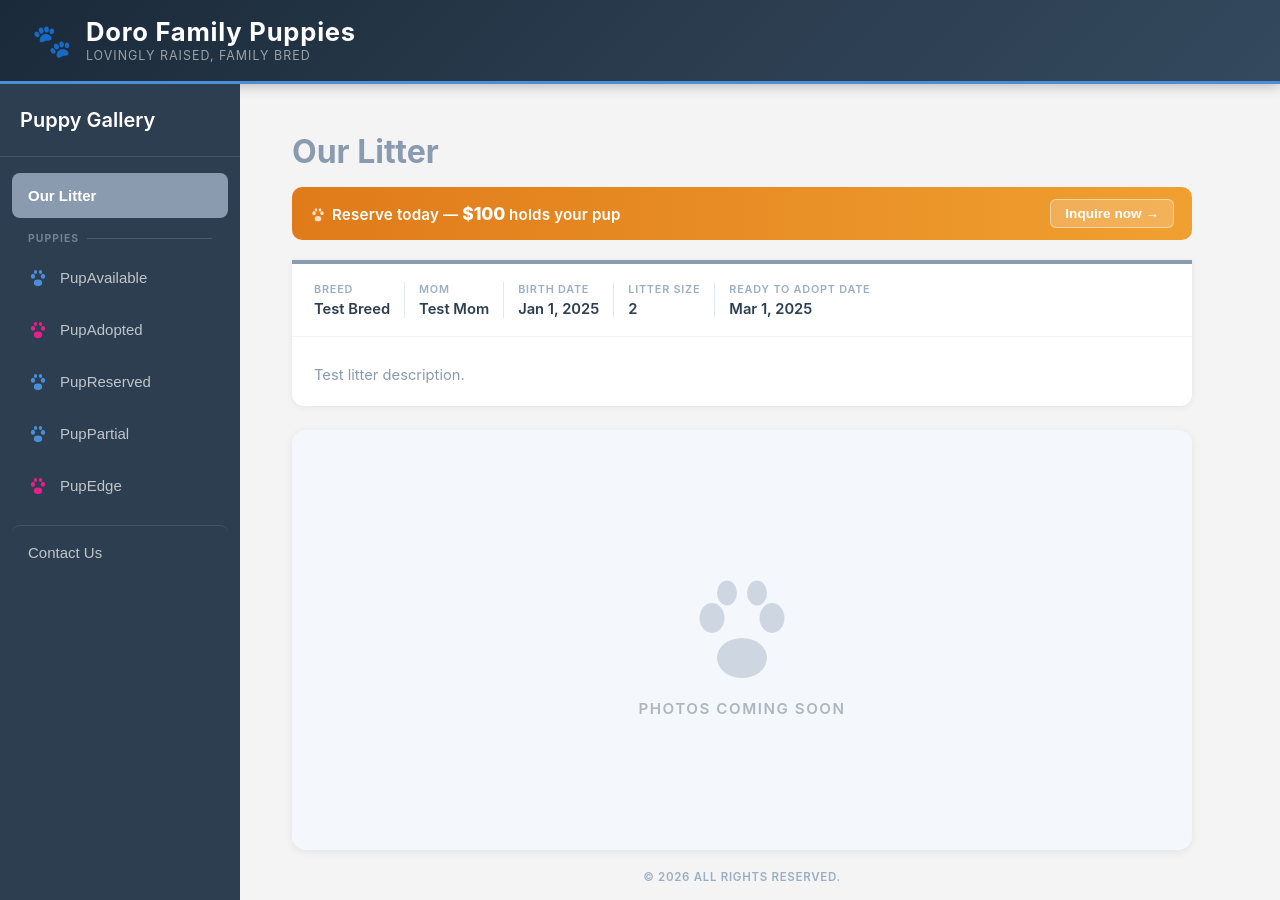
Test: Puppy details › adopted puppy shows Adopted badge
Click the button "PupAdopted" at (120, 329), box [12,305,228,353]
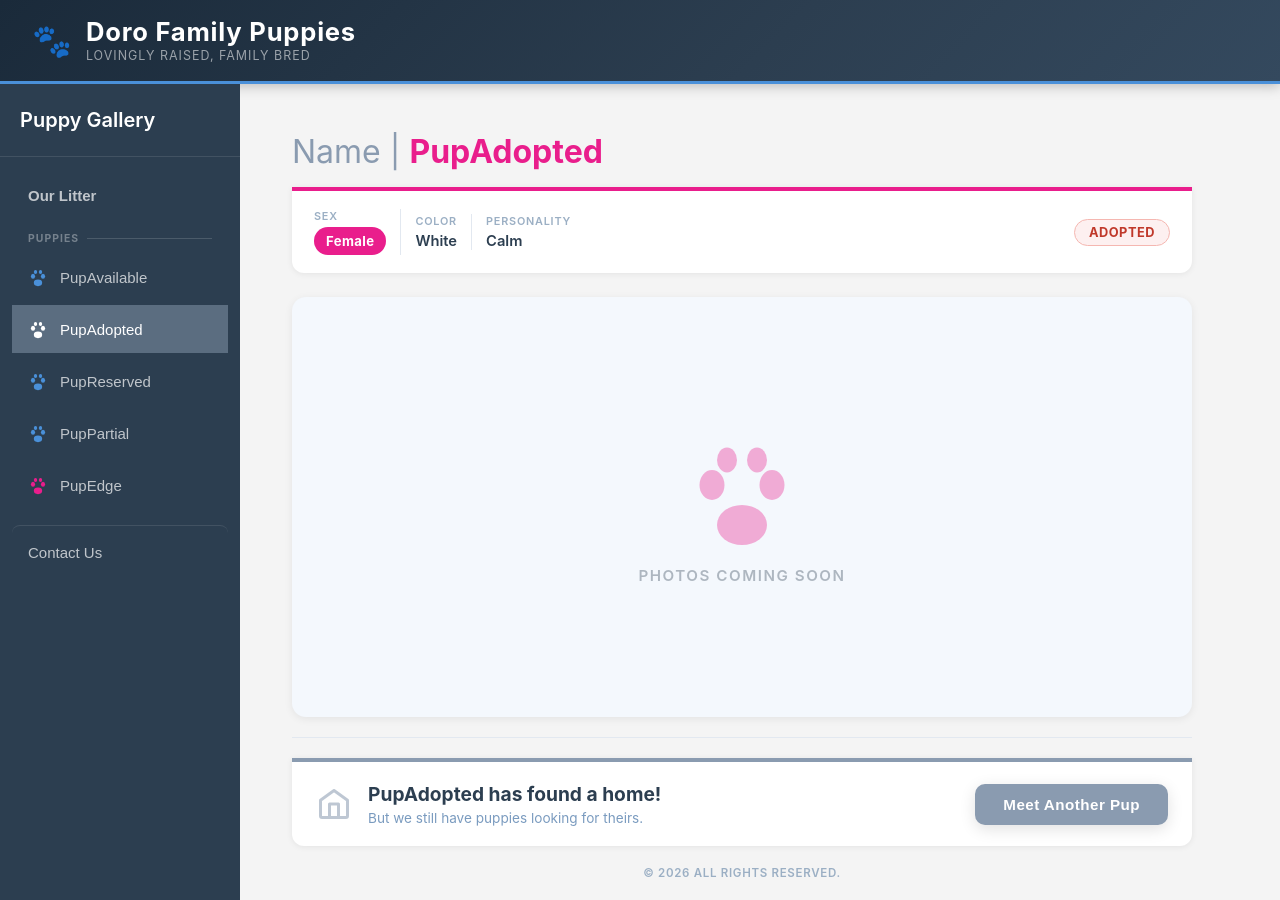
Result: the text "Adopted" is shown at [1074,219,1170,246]
